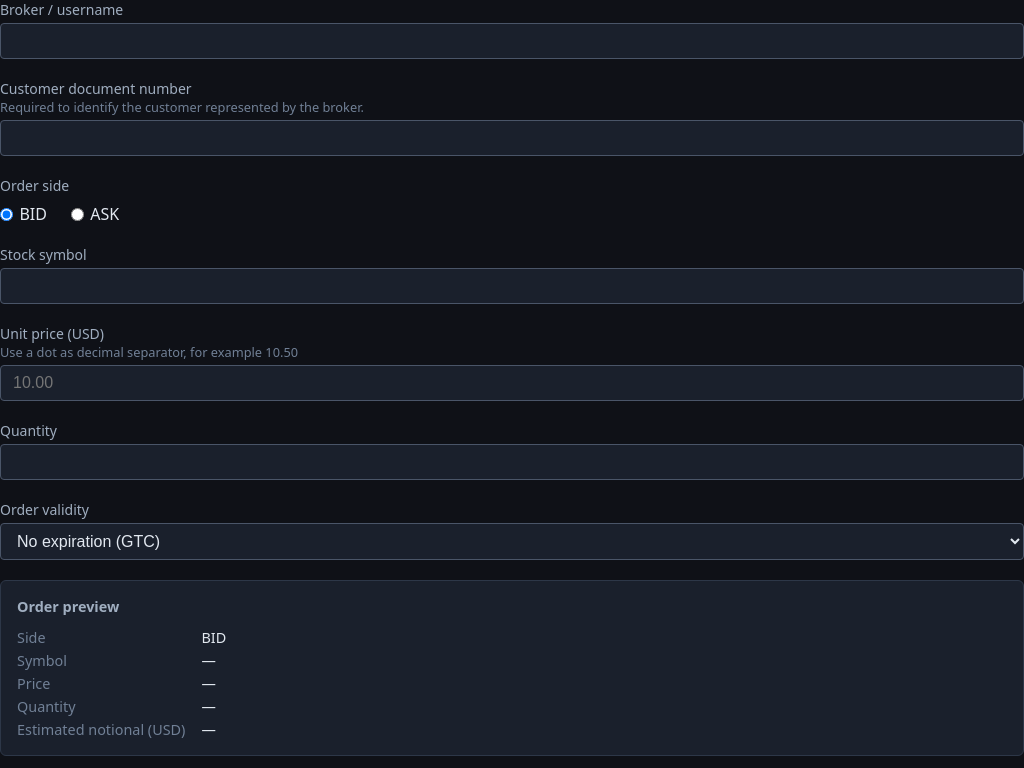
Test: SubmitOrderForm – document number validation › shows document number validation error when too short
Type "AB" into the field labelled "Customer document number" at {"x": 512, "y": 138}, box [0, 120, 1023, 156]
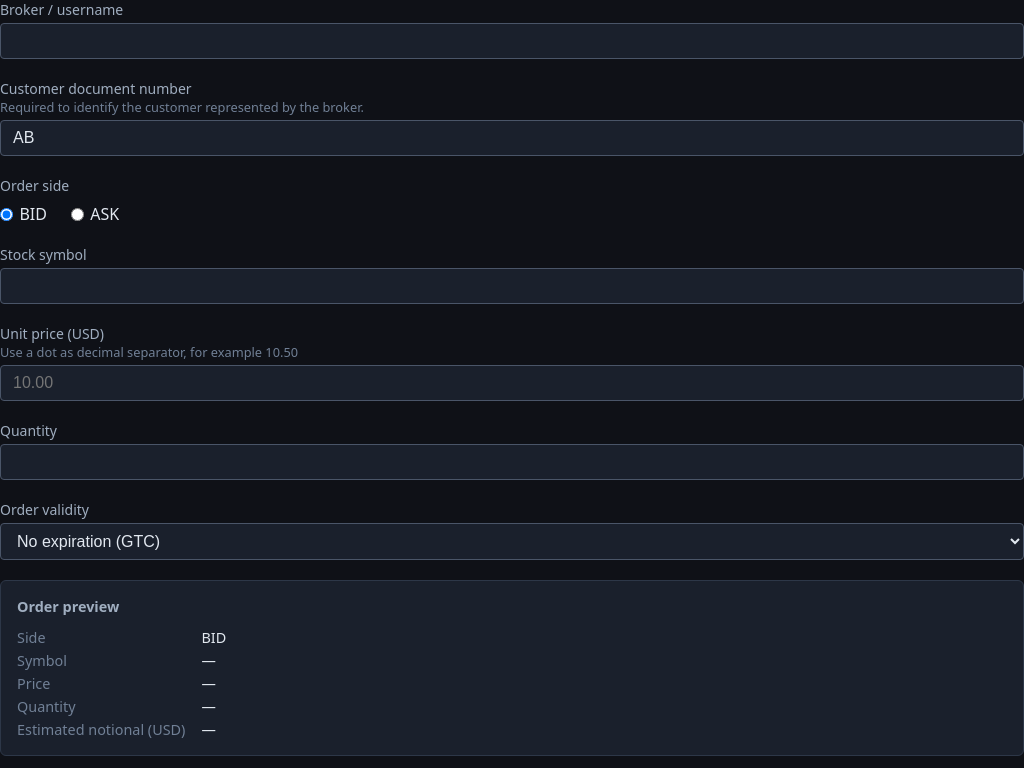
Leave the field labelled "Customer document number", box [0, 120, 1023, 156]
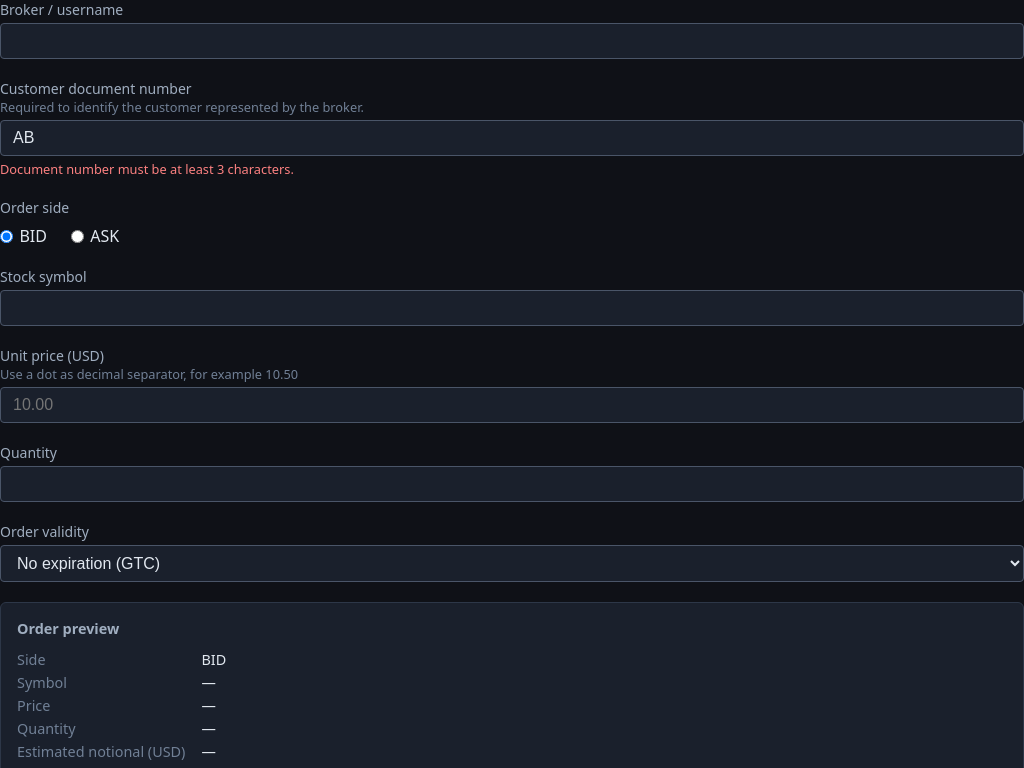
Expected: the text "Document number must be at least 3 characters." is shown, [0, 160, 294, 178]
